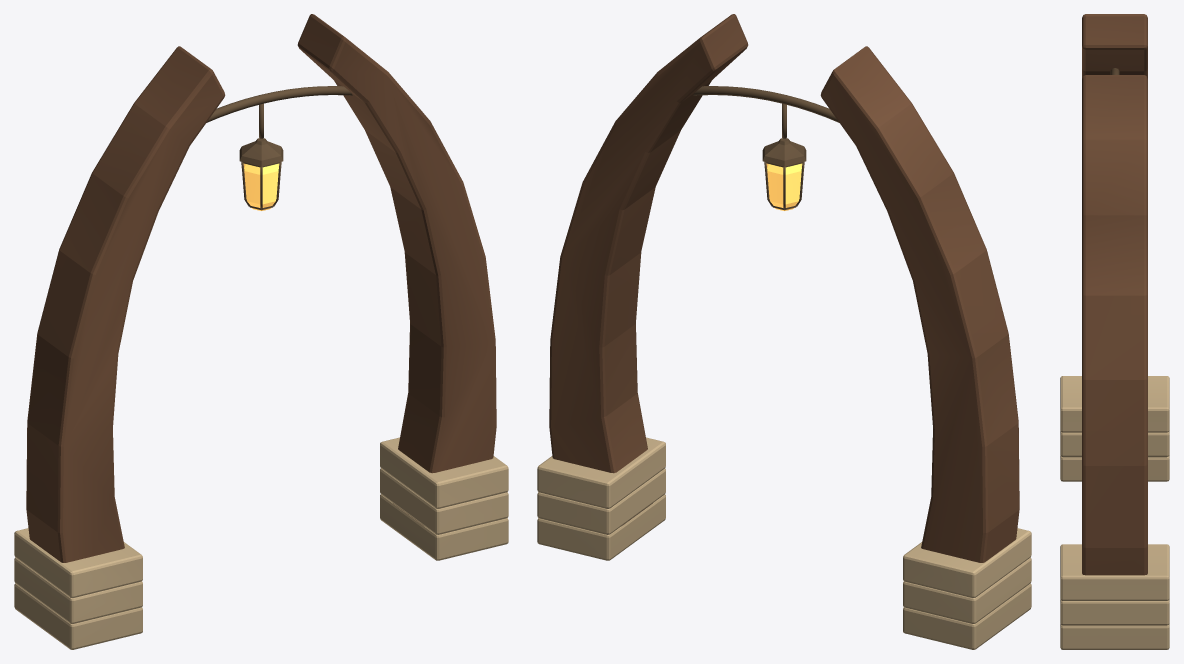
The model's file is arrival-landmark.glb.
3 renders of one model, left to right at view 1: azimuth 30°, elevation 25°; view 2: azimuth 150°, elevation 25°; view 3: azimuth 270°, elevation 25°, orthographic. The views are drawn at different scales.
Visible parts, largest first — view 1: arrival-landmark; view 2: arrival-landmark; view 3: arrival-landmark.
Part boxes in pixels (bbox=[...]): arrival-landmark: bbox=[14, 14, 508, 649]; arrival-landmark: bbox=[537, 14, 1031, 649]; arrival-landmark: bbox=[1060, 14, 1169, 649].
Bounding box in the file's own units: 2.4 × 2.8 × 0.55.
